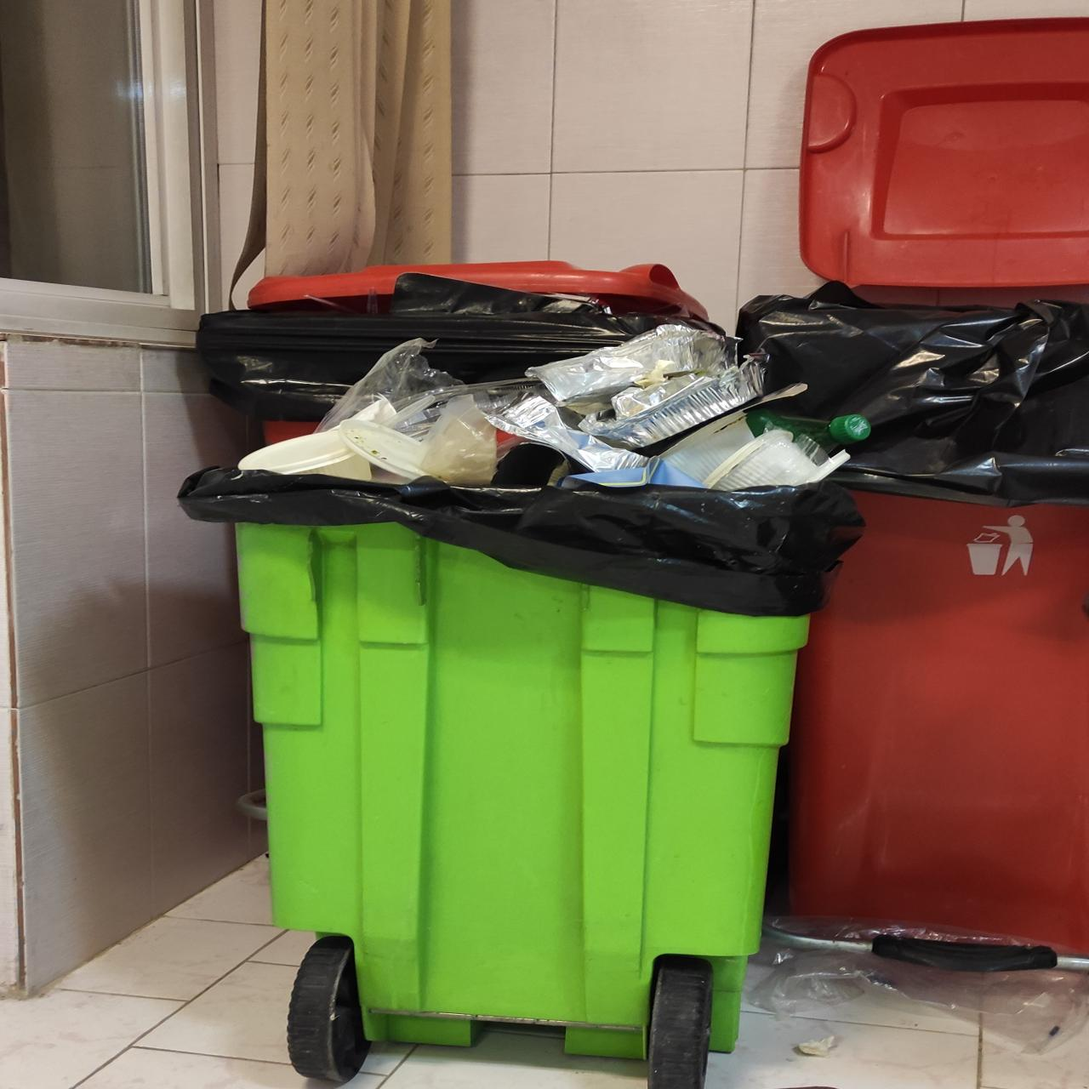bin_empty: (735, 282, 1088, 952), (197, 260, 706, 425), (799, 19, 1088, 291)
bin_full: (179, 322, 863, 1088)
